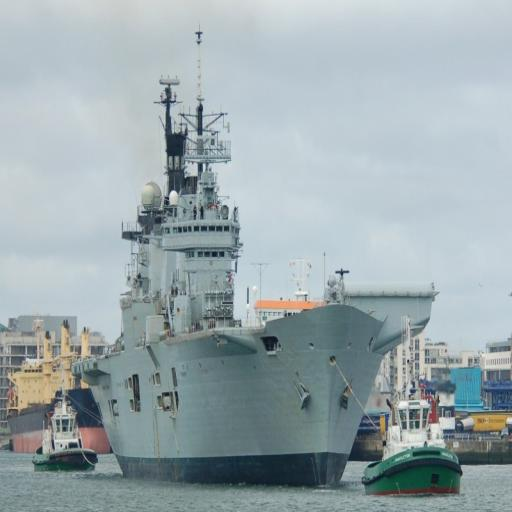Portanaves: (69, 18, 440, 489)
